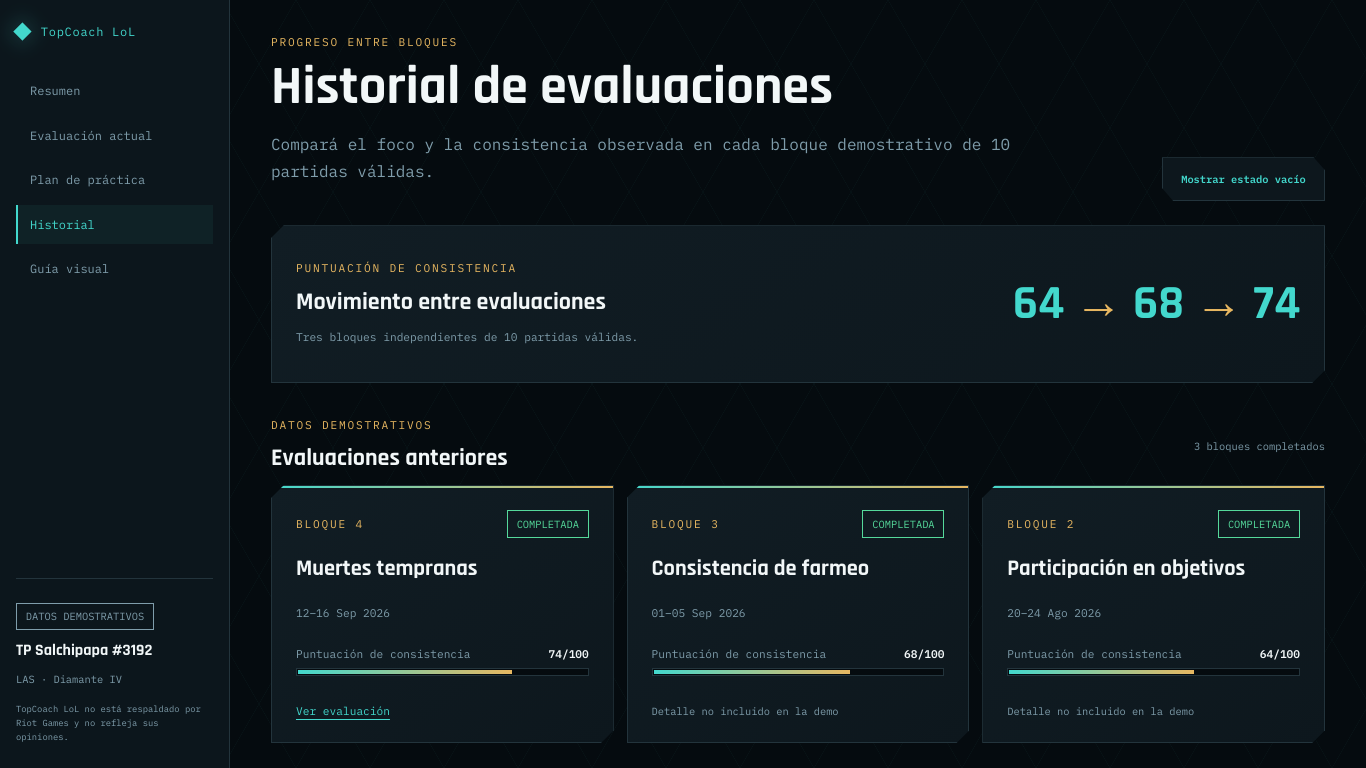
progress journey › replaces history with its recoverable empty state
The width and height of the screenshot is (1366, 768).
What coordinates should you click on to do the following:
click the button "Mostrar estado vacío"
I would click on:
 (1244, 179)
Its box is top-left (1162, 157), bottom-right (1325, 201).
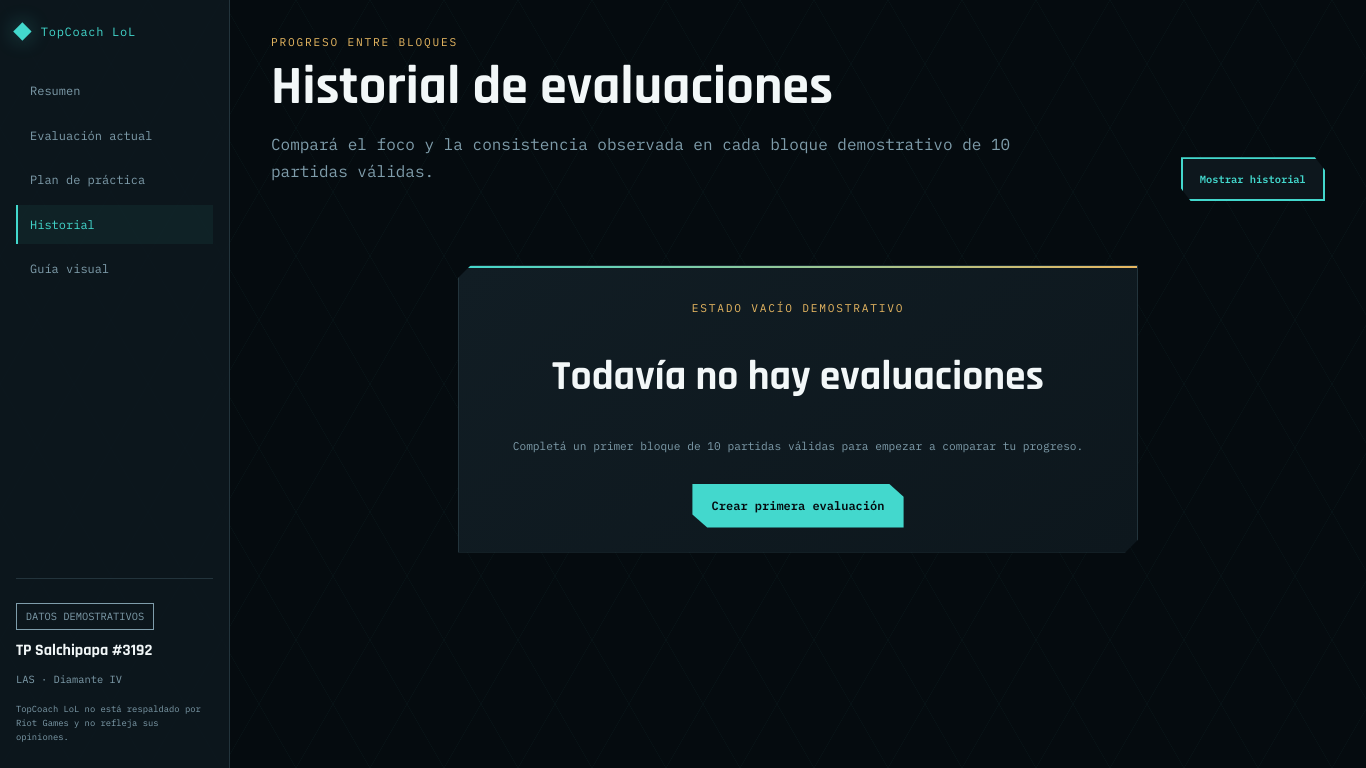
Now the text "Completada" is gone
Now the heading "Todavía no hay evaluaciones" is shown, box top-left (552, 350), bottom-right (1044, 403)
